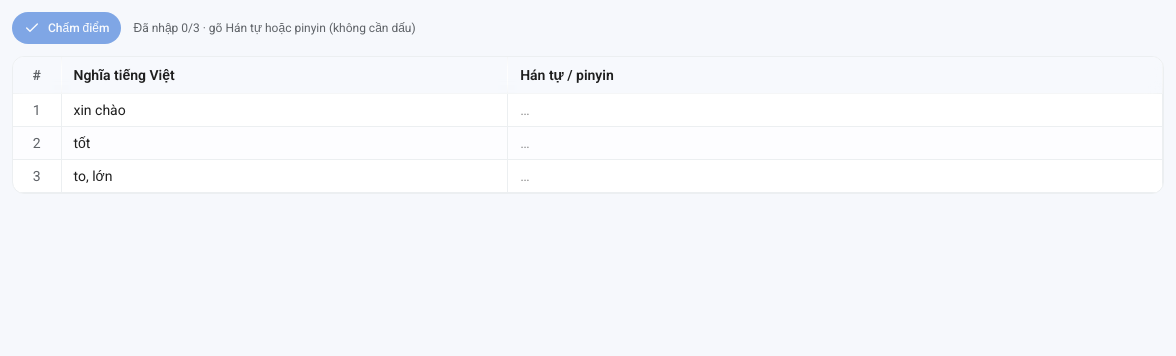
Test case: ChineseCardsTest › chấm Hán tự và pinyin, hiện điểm và đáp án đúng cho câu sai
Type "你好" into the field with placeholder "…" in the row of "xin chào".
click(835, 110); type("你好")  # box 508,94 -> 1162,126
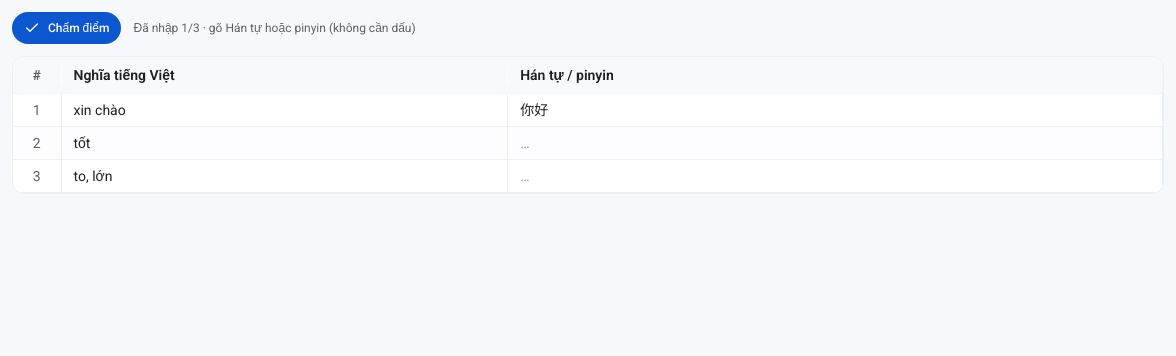
Type "hao" into the field with placeholder "…" in the row of "tốt".
click(835, 143); type("hao")  # box 508,127 -> 1162,159
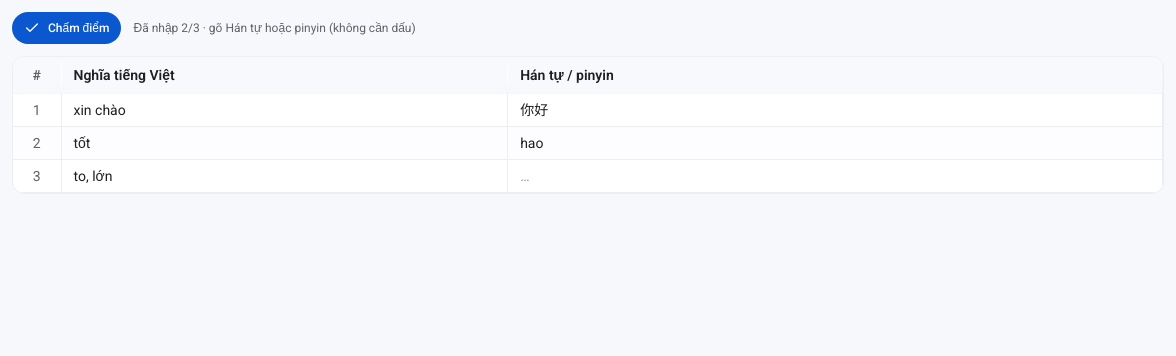
Type "xiao" into the field with placeholder "…".
click(835, 176); type("xiao")  # box 508,160 -> 1162,192
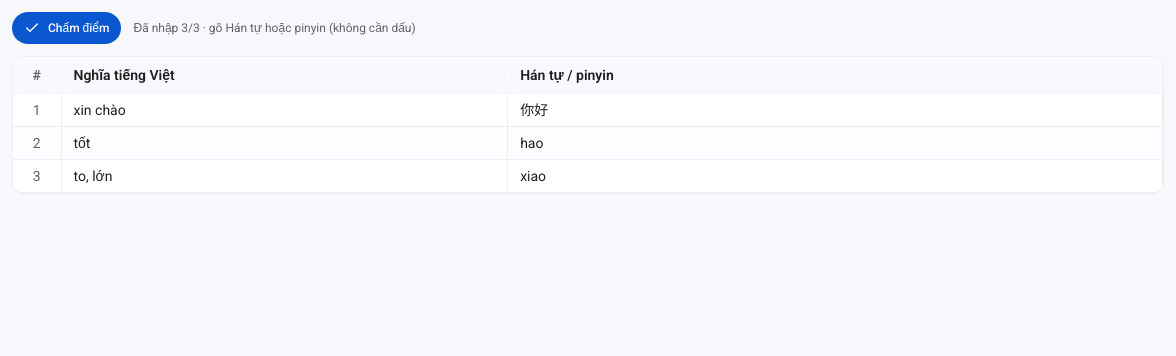
Click the button "Chấm điểm".
click(67, 28)  # box 12,12 -> 122,44
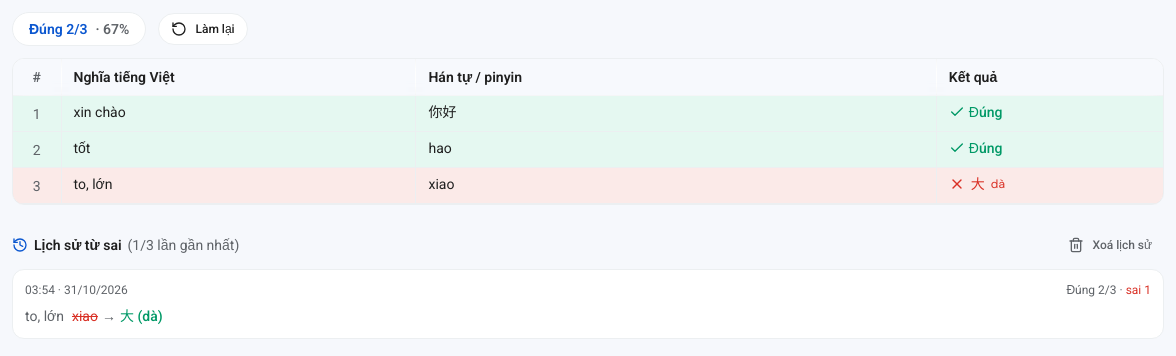
Expected: the text "dà" is shown, 991,176 -> 1005,192
